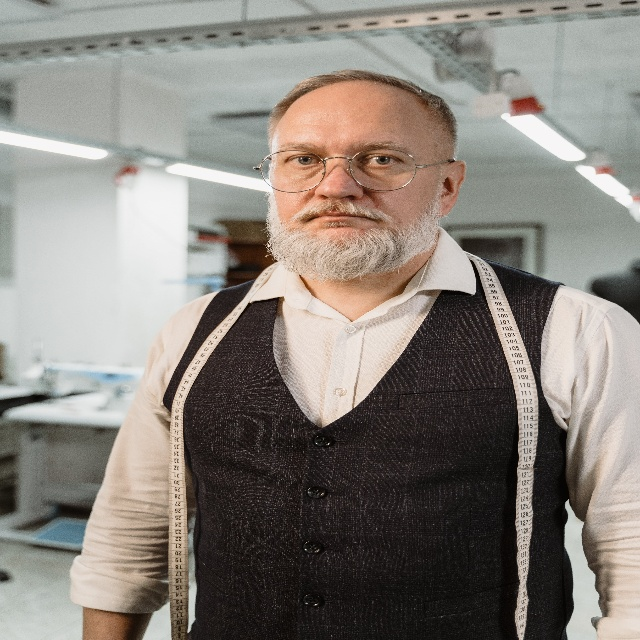Gafas: (253, 145, 420, 193)
